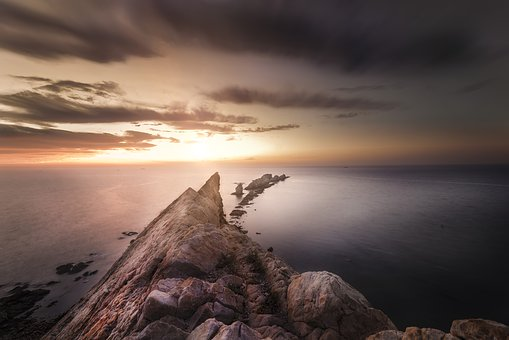sea: (228, 159, 504, 318)
sky: (1, 1, 506, 164)
stone: (81, 198, 402, 340)
